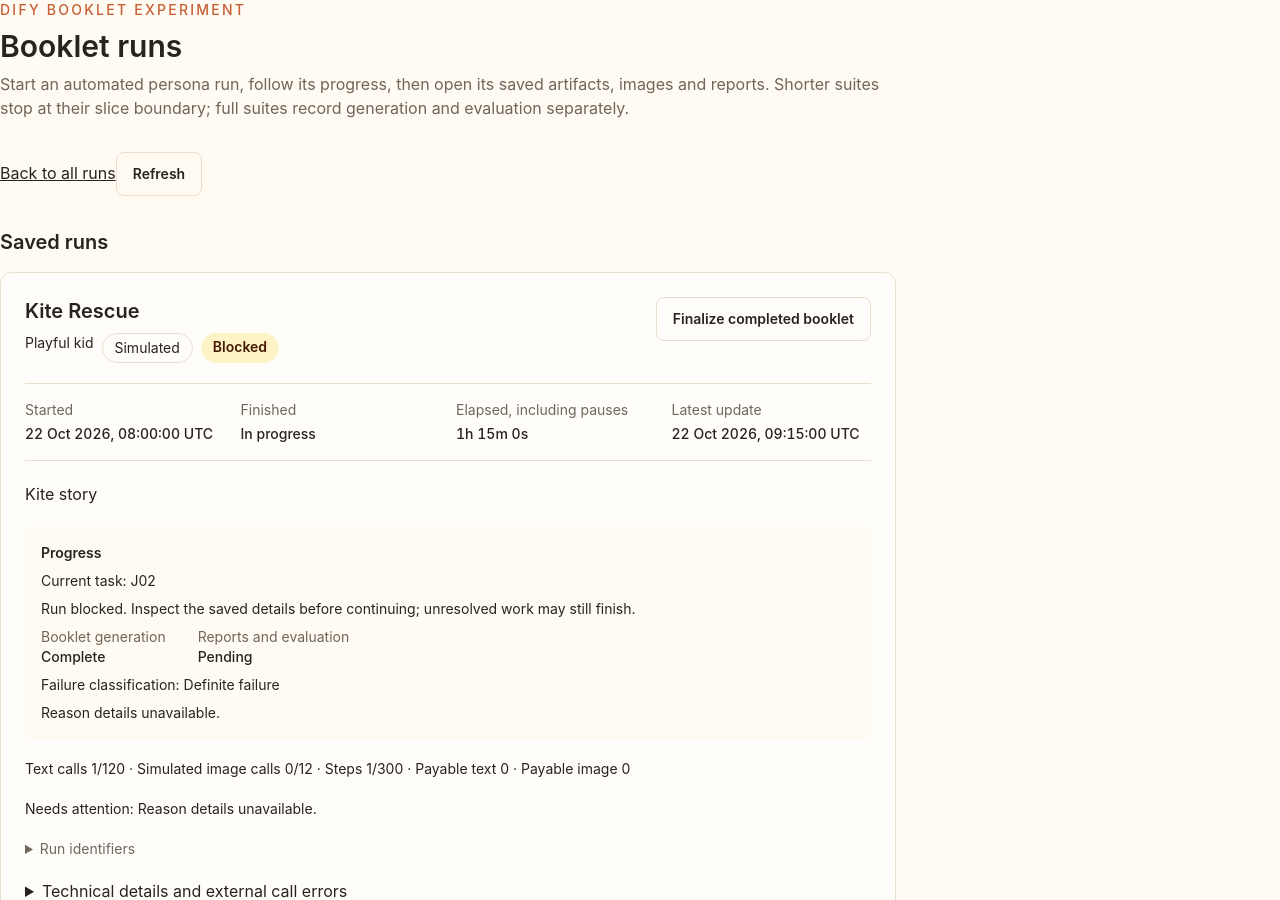
Test: booklet runner inspector › retains a completion receipt when the full detail refresh fails
Click the button "Finalize completed booklet" at {"x": 763, "y": 319}, box [656,297,871,341]
(page scrolled)
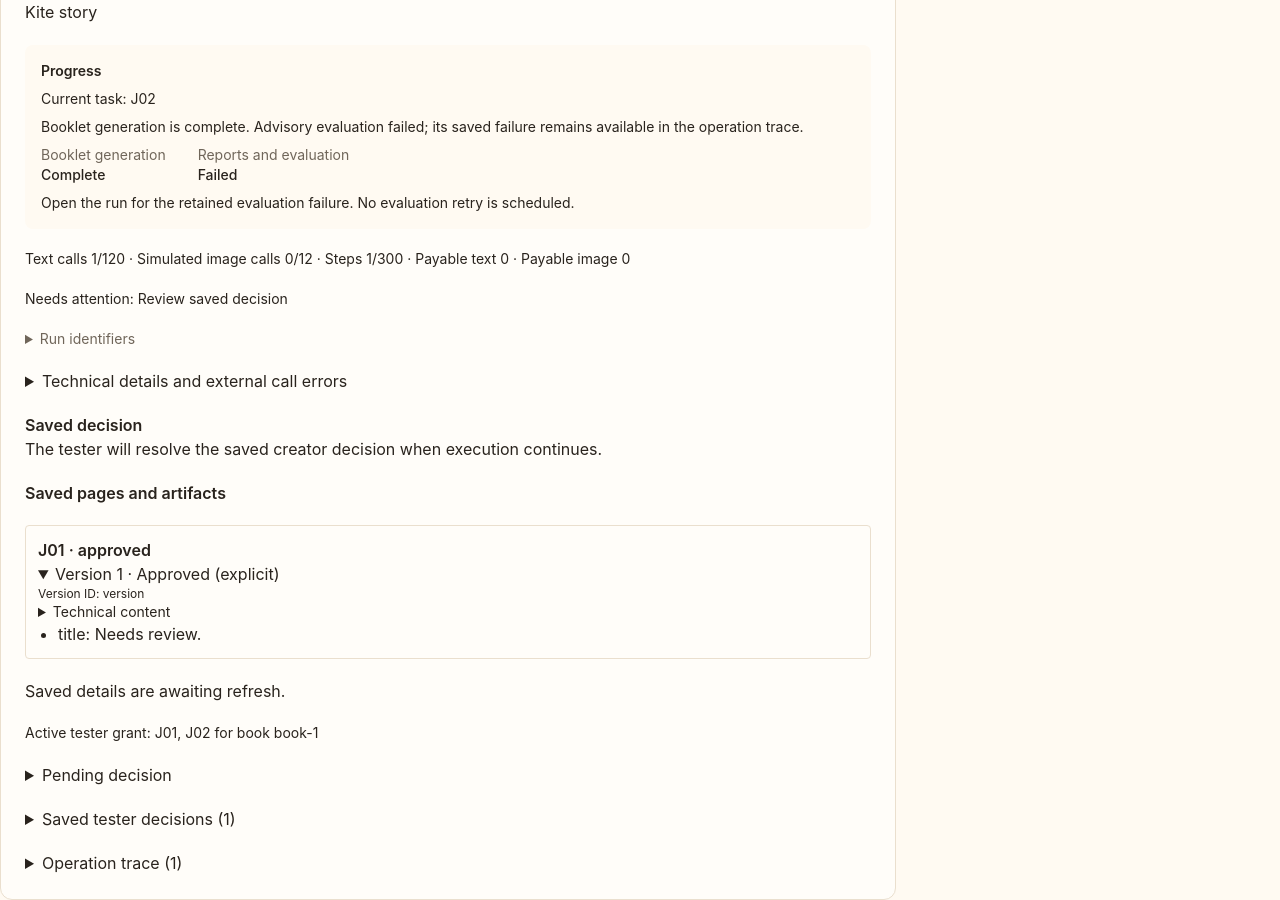
Check: the text "Saved details are awaiting refresh." is shown, box [25,681,285,701]
